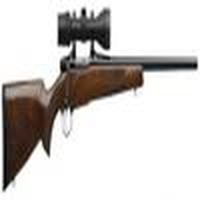gun: (3, 52, 199, 186)
